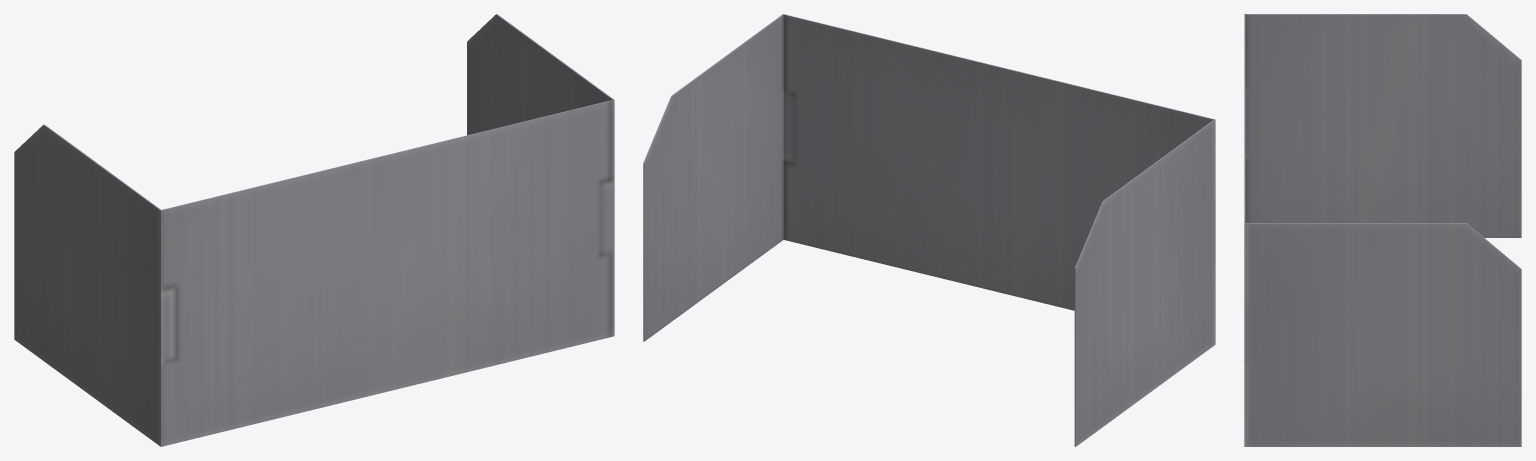
File: jsf_OilGuard.fbx
3 renders of one model, left to right at view 1: azimuth 30°, elevation 25°; view 2: azimuth 150°, elevation 25°; view 3: azimuth 270°, elevation 25°, orthographic. The views are drawn at different scales.
Visible parts, largest first — view 1: jsf_OilGuard; view 2: jsf_OilGuard; view 3: jsf_OilGuard.
Part boxes in pixels (box(x1,y1,x2,y2)): jsf_OilGuard: box(14, 14, 614, 446); jsf_OilGuard: box(643, 14, 1215, 446); jsf_OilGuard: box(1244, 14, 1521, 446).
Size of the model in its own units: 58.3 by 29 by 32.65.
